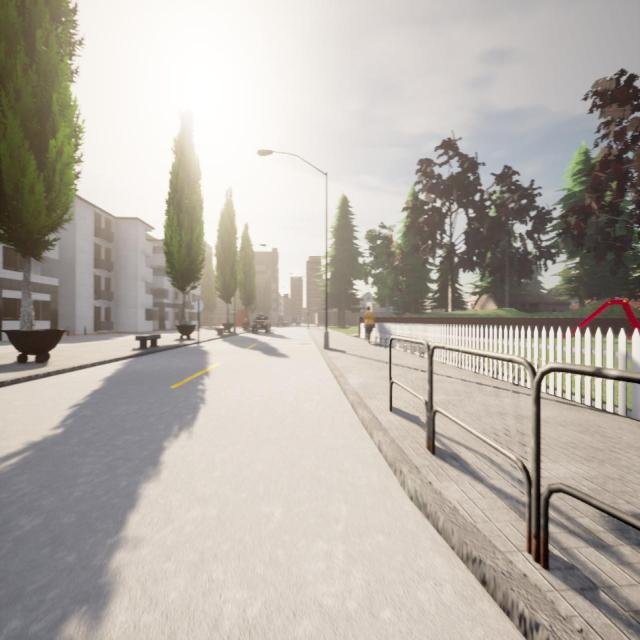Pedestrian: (363, 305, 375, 342)
Vehicle: (252, 314, 270, 334)
